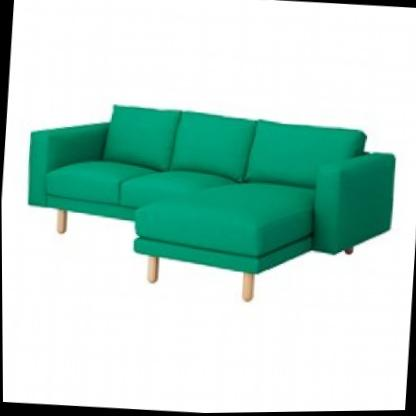Sofa: (11, 67, 404, 321)
